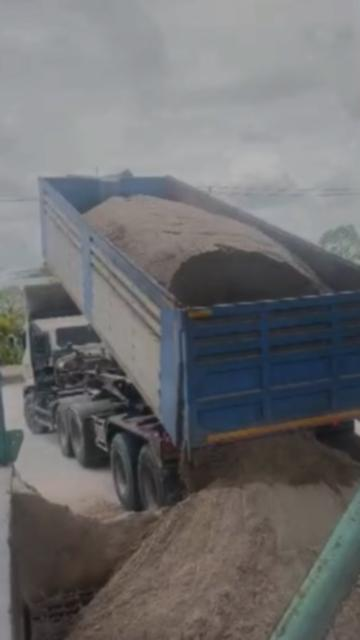sand: (57, 429, 360, 640), (85, 195, 329, 305), (13, 482, 154, 600), (284, 496, 360, 640)
